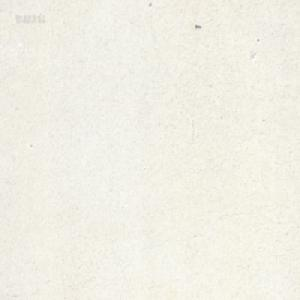Nail: (195, 23, 201, 28)
